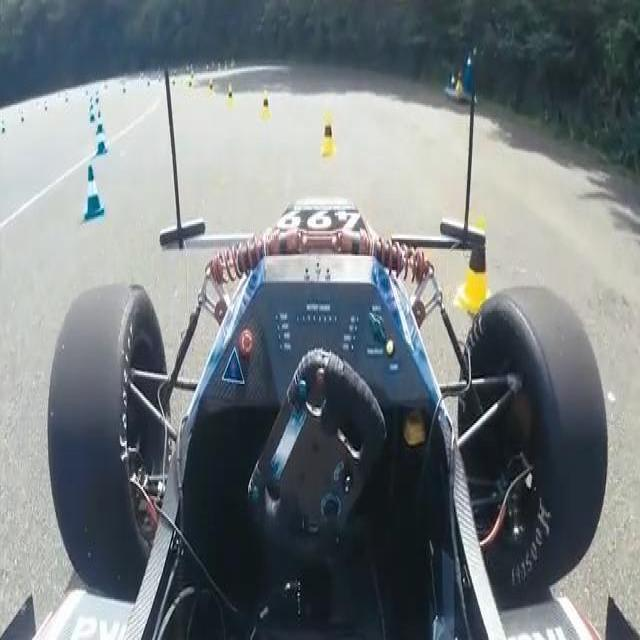blue_cone: (81, 164, 105, 216), (95, 125, 108, 158), (97, 108, 104, 134), (89, 106, 94, 124)
yellow_cone: (454, 215, 493, 318), (317, 116, 335, 161), (260, 91, 271, 120), (226, 86, 234, 106), (209, 80, 215, 100), (189, 80, 194, 96)
